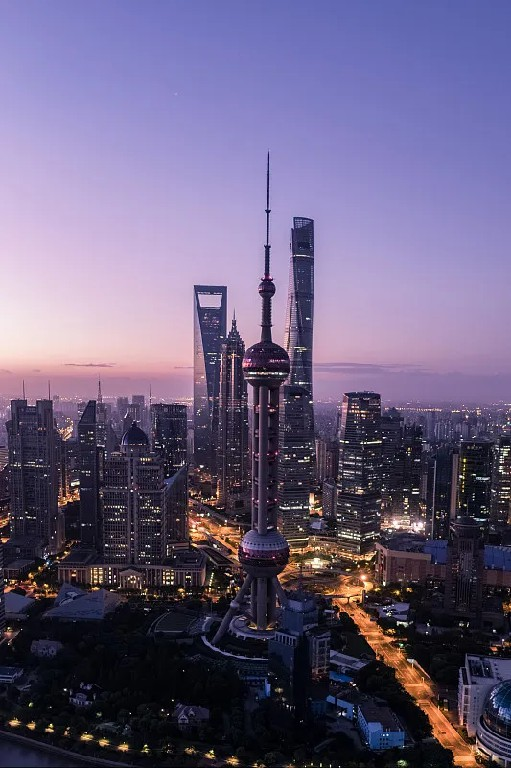Oriental: (213, 151, 290, 641)
